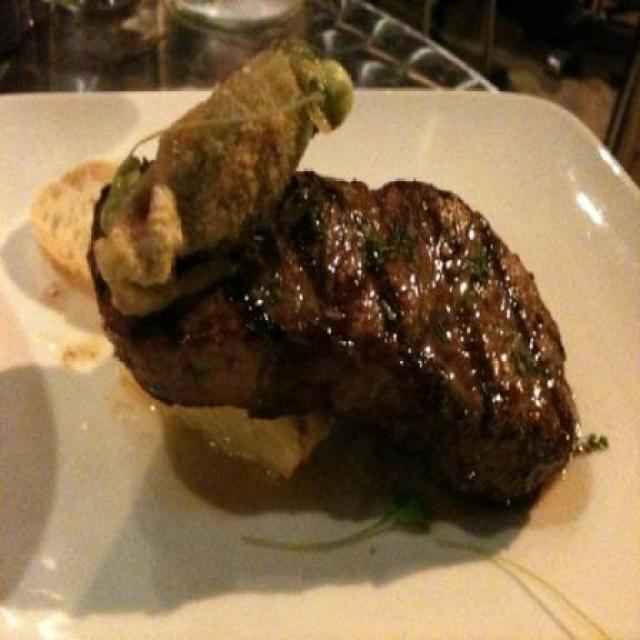Steak: (110, 106, 607, 516)
